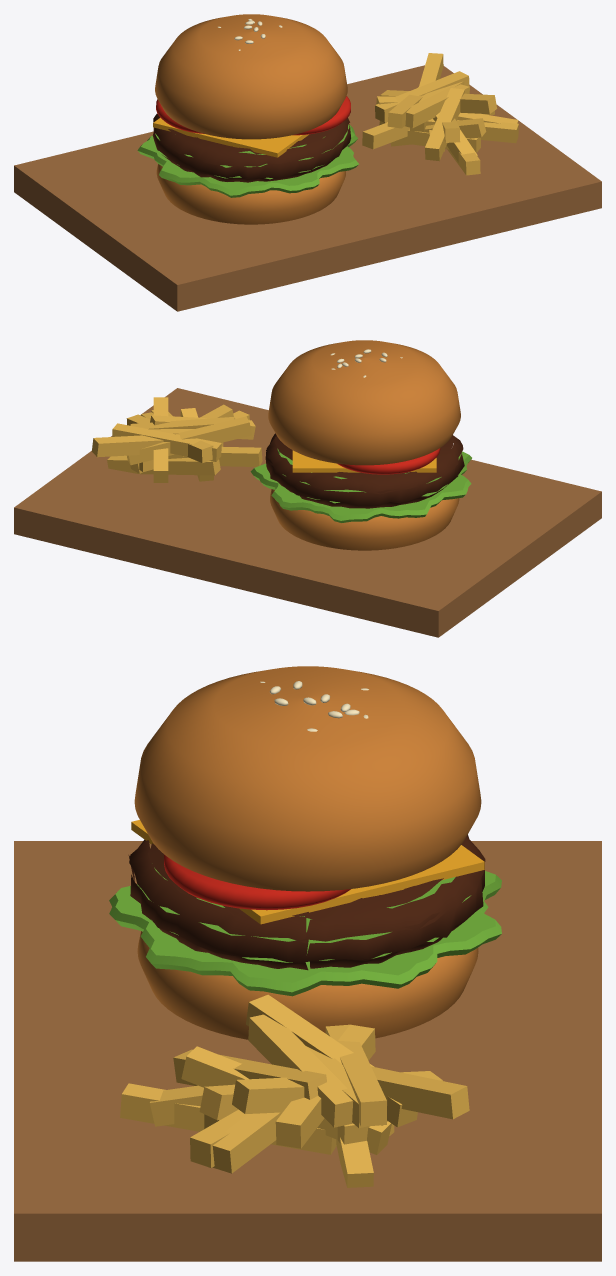
Rendered from burger.glb.
The picture shows the model from 3 angles, top to bottom: view 1: azimuth 30°, elevation 25°; view 2: azimuth 150°, elevation 25°; view 3: azimuth 270°, elevation 25°; orthographic projection. The views are drawn at different scales.
Parts seen in each view (by area): view 1: burger; view 2: burger; view 3: burger.
Boxes of the visible parts, x1,y1,x2,y2 form: burger: [14, 14, 601, 311]; burger: [14, 340, 601, 637]; burger: [14, 666, 601, 1261].
Size of the model in its own units: 0.3 by 0.1246 by 0.2.
